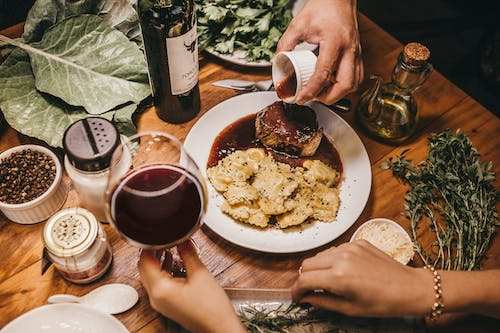alcohol: (101, 132, 210, 278), (135, 0, 202, 125)
knife: (209, 74, 353, 112)
